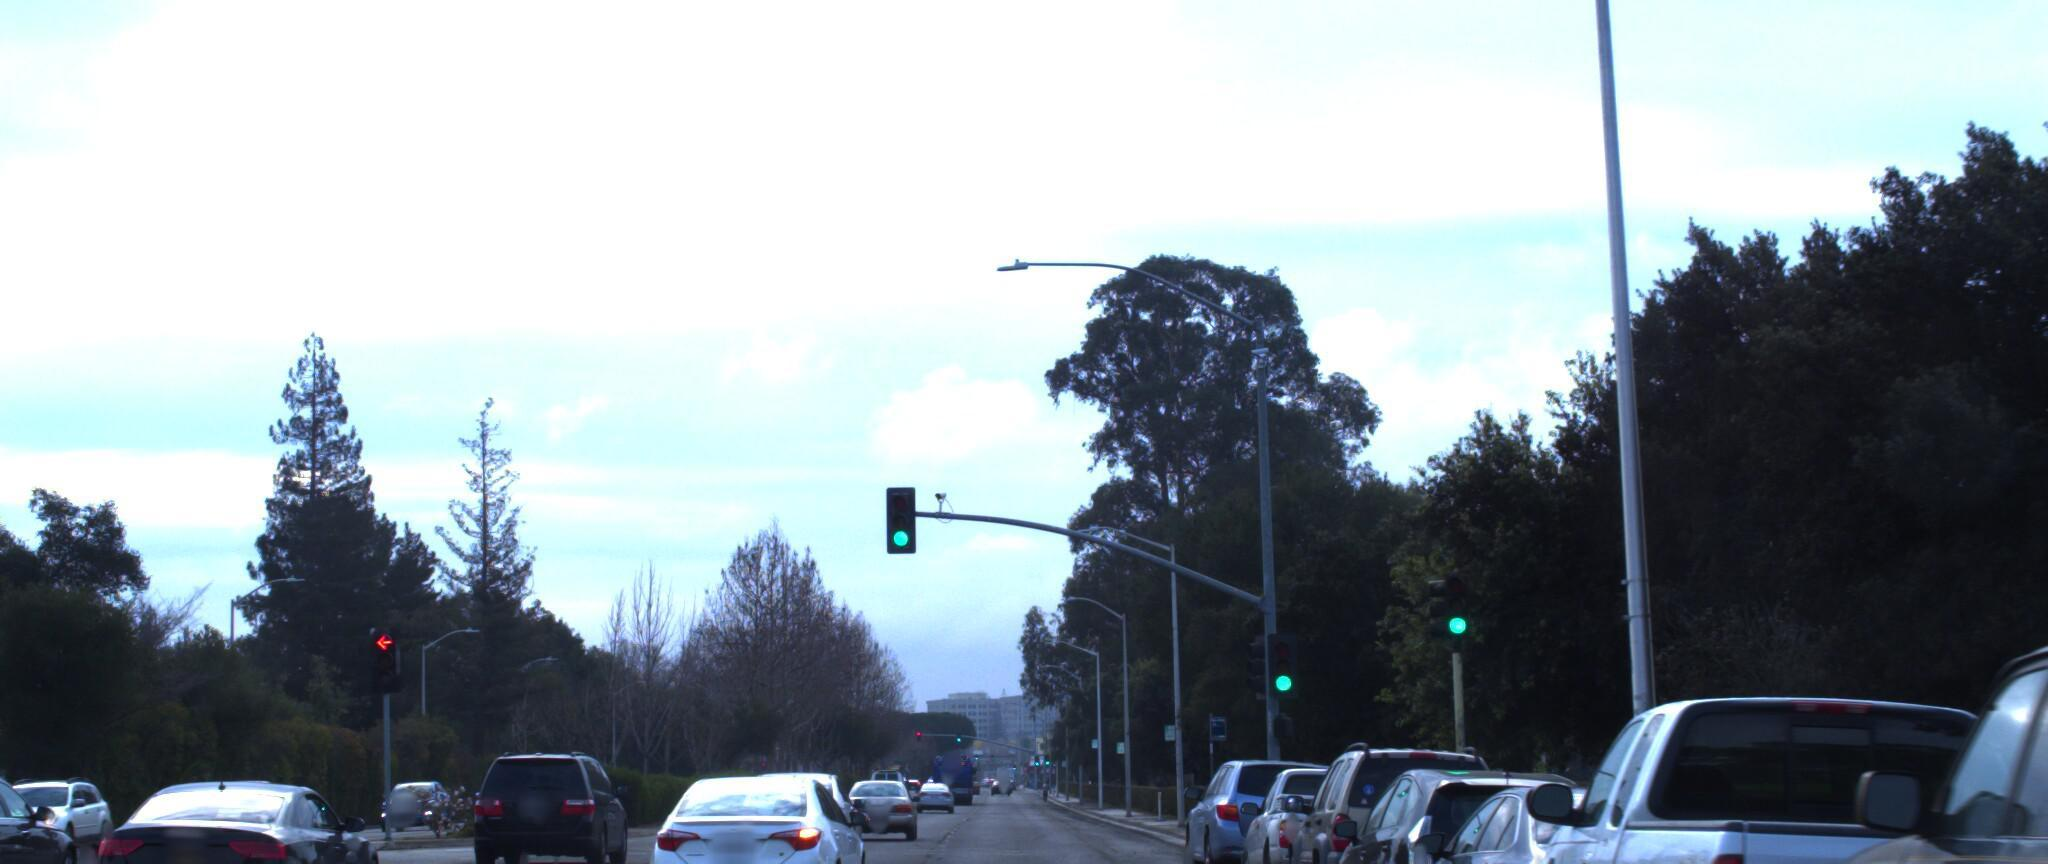car: (1701, 501, 2048, 864), (1479, 646, 2048, 864), (1382, 757, 1836, 864), (1314, 743, 1640, 864), (1263, 720, 1535, 864), (65, 770, 404, 864), (1225, 743, 1439, 864), (660, 754, 896, 864), (1166, 737, 1354, 864), (460, 739, 639, 863), (718, 756, 870, 864), (0, 773, 125, 864), (0, 760, 91, 864), (833, 764, 921, 829)
